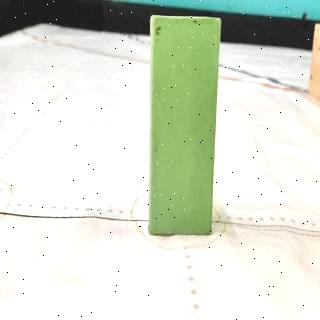greenbox: (150, 15, 220, 236)
